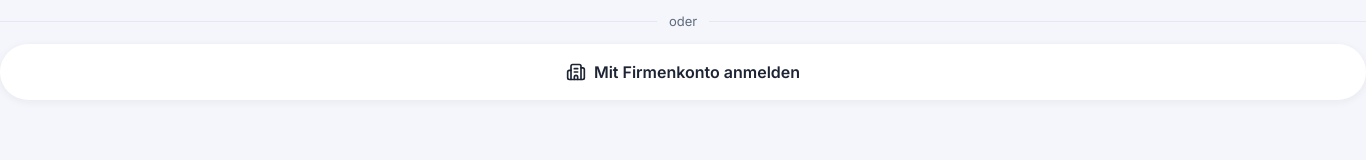
it: SsoLoginButton › ohne E-Mail: Hinweis statt Weiterleitung
The width and height of the screenshot is (1366, 160).
Click the link "Mit Firmenkonto anmelden" at coordinates (683, 72), box [0,44,1365,100]
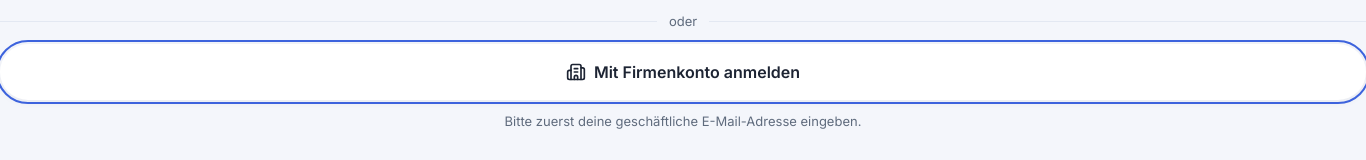
Now the message shows "geschäftliche E-Mail-Adresse", box [505,112,861,128]
